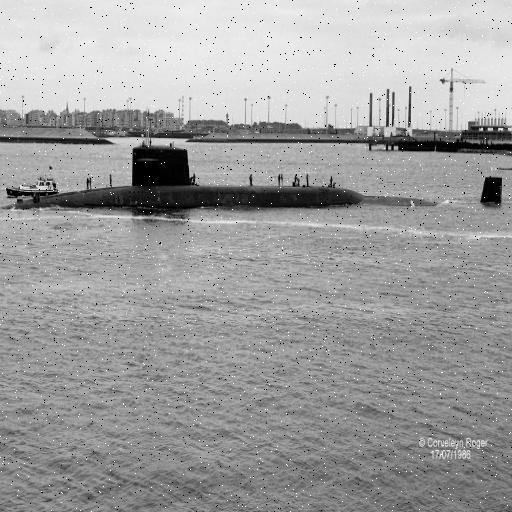submarine: (7, 139, 512, 211)
